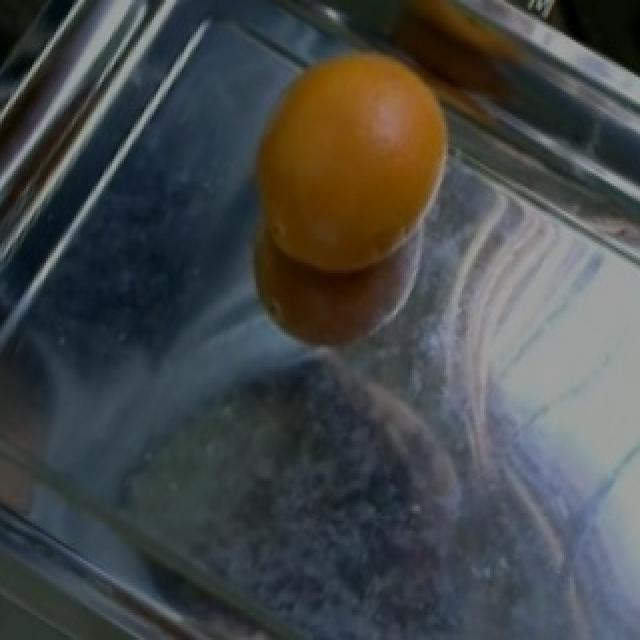Fruit: (242, 42, 476, 295)
